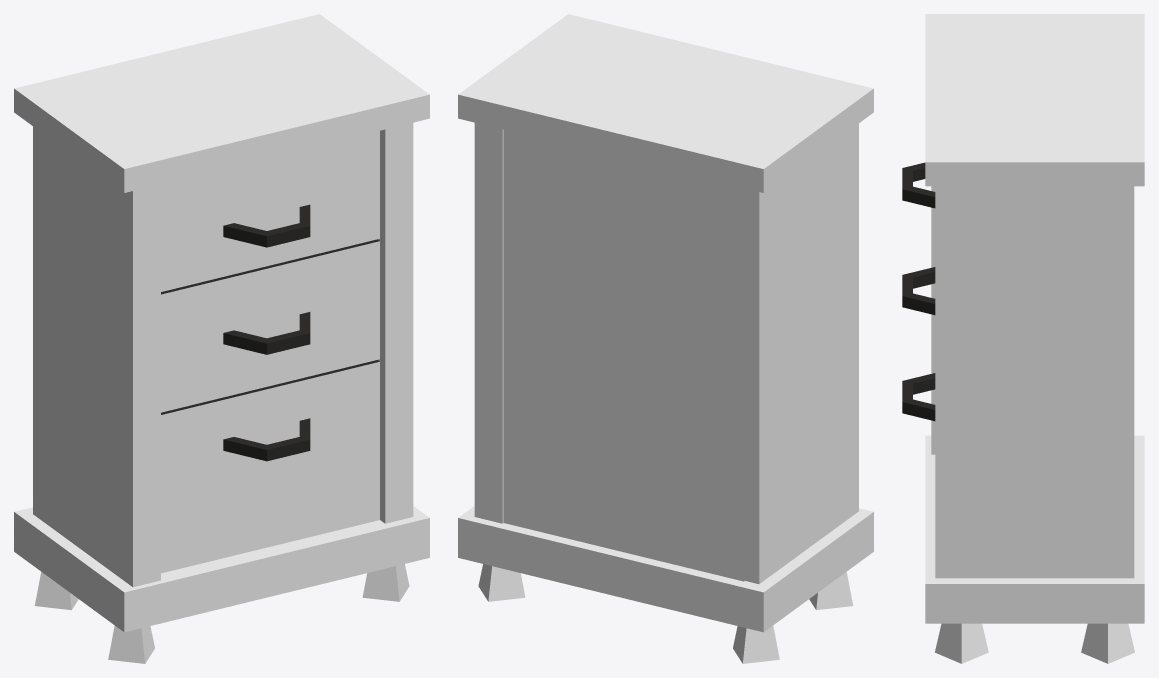
Rendered from Drawer_2A.fbx.
The picture shows the model from 3 angles, left to right: view 1: azimuth 30°, elevation 25°; view 2: azimuth 150°, elevation 25°; view 3: azimuth 270°, elevation 25°; orthographic projection.
Parts seen in each view (by area): view 1: polySurface1502; view 2: polySurface1502; view 3: polySurface1502.
Part boxes in pixels (box(x1,y1,x2,y2)): polySurface1502: box(14, 14, 429, 663); polySurface1502: box(458, 14, 873, 663); polySurface1502: box(902, 14, 1144, 663).
Bounding box in the file's own units: 1.2 × 1.9 × 0.8282.
Materials: 1 (1 with a texture image).
